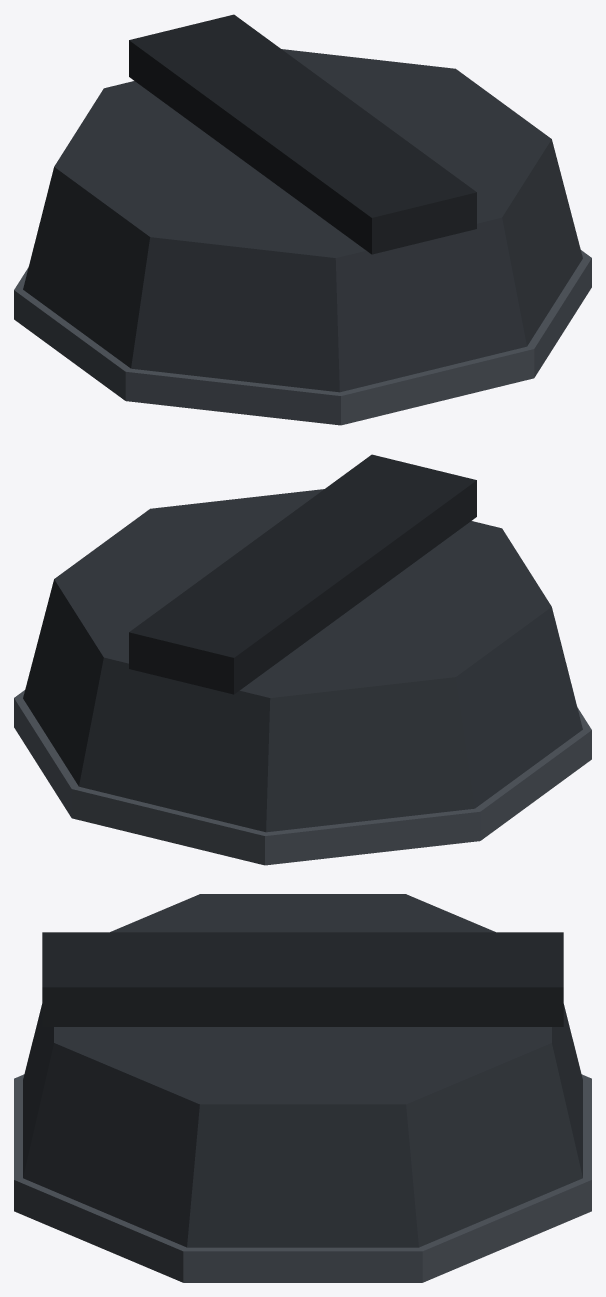
File: inf_warden_plate_shoulder.fbx
3 views of the same model, one above another, from view 1: azimuth 30°, elevation 25°; view 2: azimuth 150°, elevation 25°; view 3: azimuth 270°, elevation 25° (orthographic). The views are drawn at different scales.
Parts seen in each view (by area): view 1: inf_warden_plate_shoulder; view 2: inf_warden_plate_shoulder; view 3: inf_warden_plate_shoulder.
Part boxes in pixels (left/top/right/bottom): inf_warden_plate_shoulder: left=14, top=14, right=591, bottom=425; inf_warden_plate_shoulder: left=14, top=454, right=591, bottom=865; inf_warden_plate_shoulder: left=14, top=894, right=591, bottom=1282.
Size of the model in its own units: 133 by 51 by 133.
